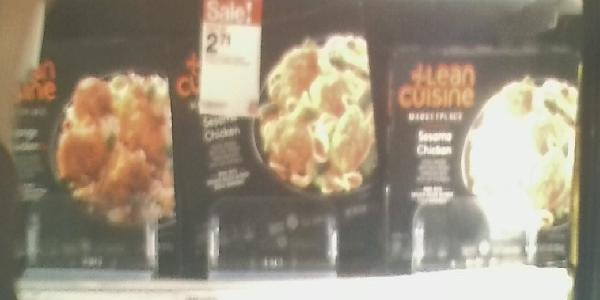pizza1: (381, 39, 584, 278), (177, 46, 380, 280), (6, 46, 176, 289)
